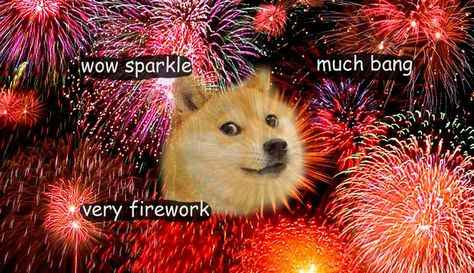doge: (160, 69, 305, 216)
